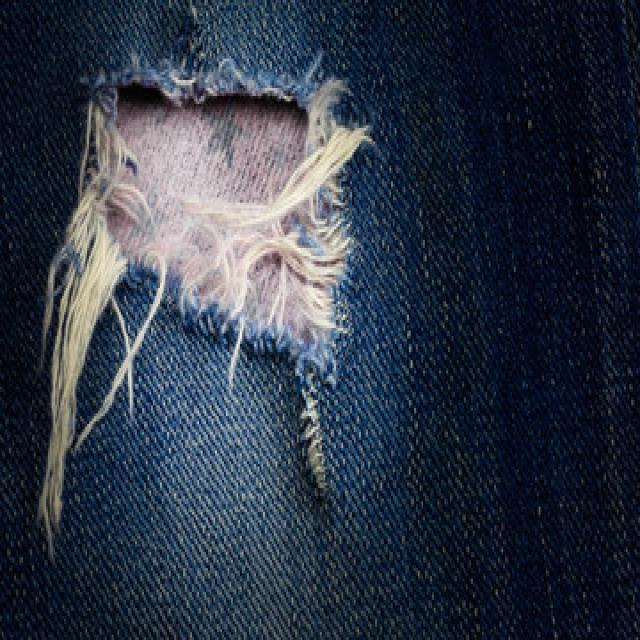Hole: (37, 70, 363, 513), (301, 376, 329, 498)
